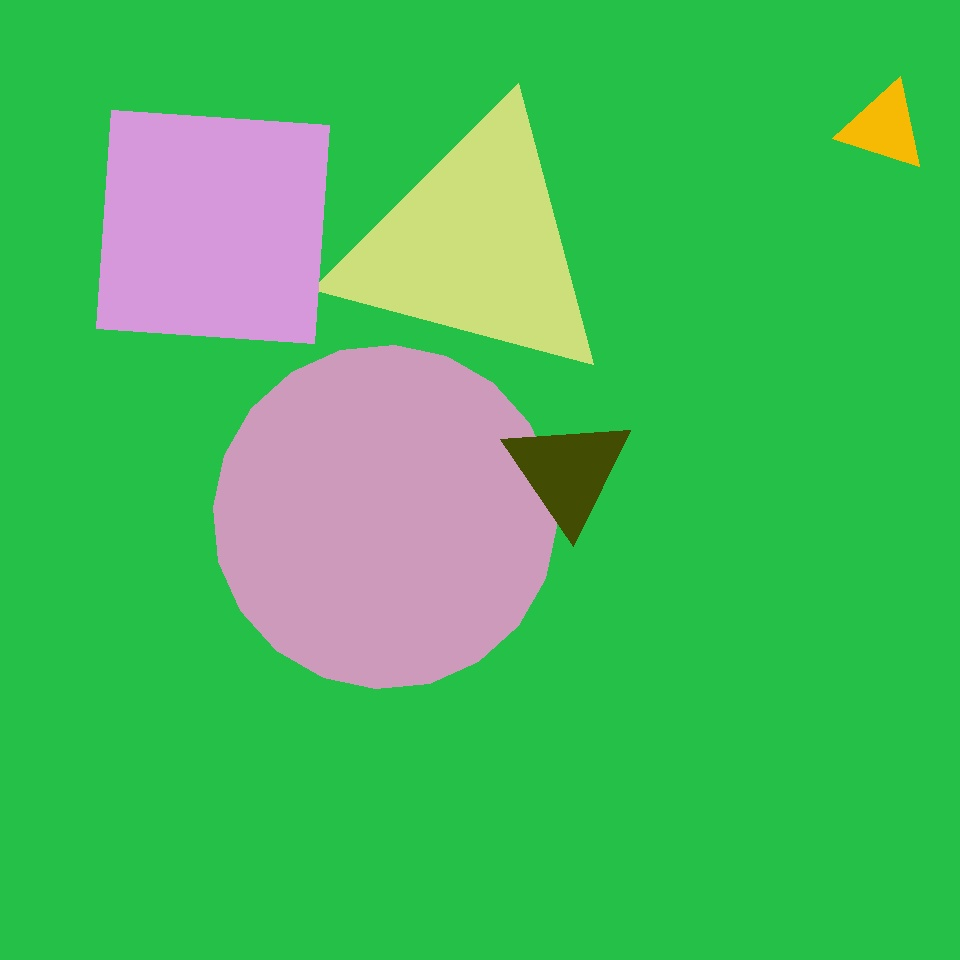circle: (334, 105, 616, 386), (503, 414, 633, 530), (840, 82, 927, 172)
square: (226, 128, 592, 494), (96, 110, 330, 344), (293, 345, 398, 450)
triangle: (214, 346, 556, 689), (49, 354, 331, 636), (798, 55, 919, 176)
